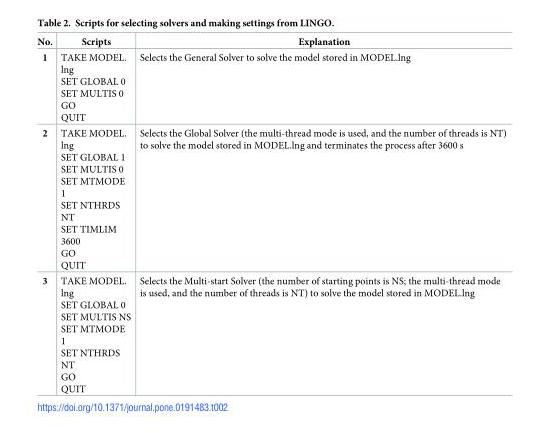table: (36, 36, 505, 393)
table column: (134, 36, 505, 393), (55, 36, 134, 393), (36, 36, 55, 393)
table column header: (36, 36, 505, 49)
table row: (36, 125, 505, 272), (36, 272, 505, 393), (36, 49, 505, 125), (36, 36, 505, 49)
